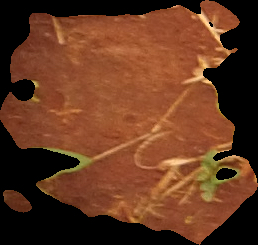soil: (1, 1, 257, 244)
